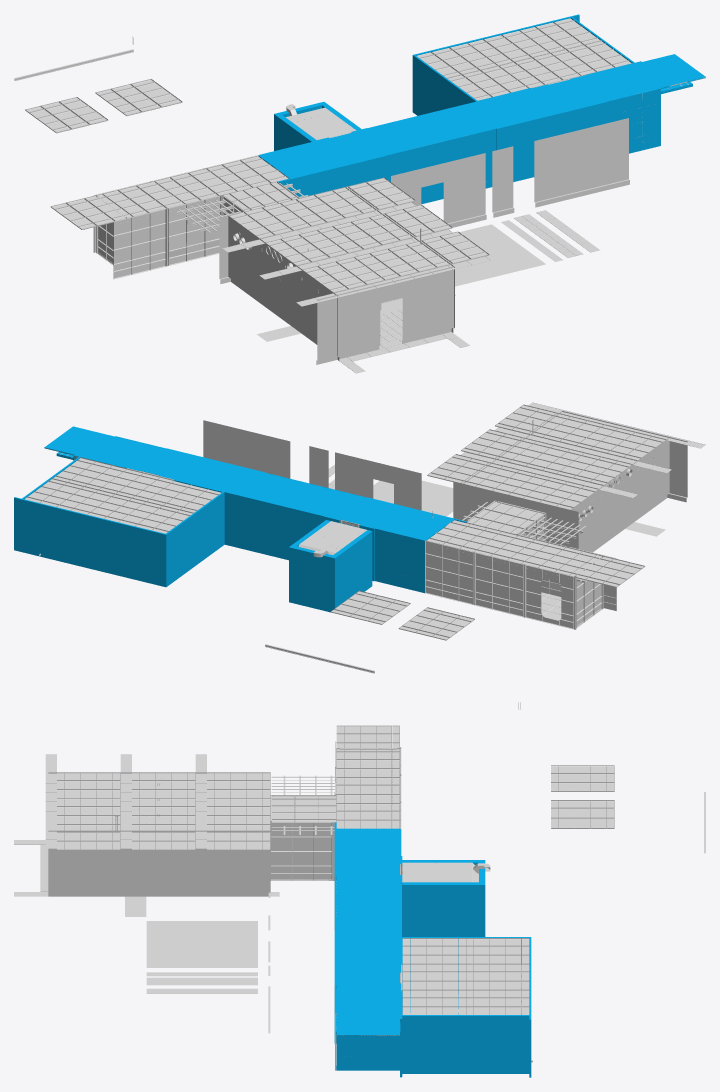
Rendered from SM_Interior2.glb.
3 renders of one model, top to bottom at view 1: azimuth 30°, elevation 25°; view 2: azimuth 150°, elevation 25°; view 3: azimuth 270°, elevation 25°, orthographic. The views are drawn at different scales.
Visible parts, largest first — view 1: SM_TrimTiles1_Wall1.002, SM_TrimTiles1_Wall3_Frame.002, SM_TrimTiles1_Wall3_Frame.001, SM_TrimConcrete1.012, SM_TrimTiles1_Wall1.003, Plane.021, SM_TrimConcrete2_Damaged.006, SM_Interior2_convcolonly_045, SM_TrimTiles1_Wall1.005, SM_Interior2_convcolonly_081, SM_TrimConcrete1_Ceeling4.001, SM_TrimConcrete1_Ceeling1.015 (+49 smaller); view 2: SM_TrimTiles1_Wall1.002, SM_TrimTiles1_Wall3_Frame.001, SM_Interior2_convcolonly_075, SM_Interior2_convcolonly_005, SM_Interior2_convcolonly_006, SM_Interior2_convcolonly_007, SM_TrimConcrete1.010, SM_TrimConcrete1.009, SM_Interior2_convcolonly_076, SM_TrimTiles1_Wall1.005, SM_Interior2_convcolonly_048, SM_TrimTiles1_Wall1.003 (+48 smaller); view 3: SM_TrimTiles1_Wall1.004, SM_TrimTiles1_Wall1, Plane.021, SM_Interior2_convcolonly_074, SM_Interior2_convcolonly_008, SM_Interior2_convcolonly_009, SM_TrimConcrete1.007, SM_Interior2_convcolonly_063, SM_TrimConcrete1_Ceeling4, SM_TrimConcrete1_Ceeling4.001, SM_Interior2_convcolonly_055, SM_TrimConcrete1_Ceeling1.008 (+29 smaller).
Part boxes in pixels (<box>): SM_TrimTiles1_Wall1.002: <box>534,118,629,207</box>; SM_TrimTiles1_Wall3_Frame.002: <box>337,271,432,359</box>; SM_TrimTiles1_Wall3_Frame.001: <box>391,153,486,227</box>; SM_TrimConcrete1.012: <box>113,208,168,279</box>; SM_TrimTiles1_Wall1.003: <box>228,216,284,320</box>; Plane.021: <box>455,224,545,286</box>; SM_TrimConcrete2_Damaged.006: <box>168,195,222,265</box>; SM_Interior2_convcolonly_045: <box>606,88,660,153</box>; SM_TrimTiles1_Wall1.005: <box>283,256,339,360</box>; SM_Interior2_convcolonly_081: <box>496,115,551,181</box>; SM_TrimConcrete1_Ceeling4.001: <box>95,79,182,115</box>; SM_TrimConcrete1_Ceeling1.015: <box>25,97,108,133</box>; SM_TrimTiles1_Wall1.002: <box>203,420,290,478</box>; SM_TrimTiles1_Wall3_Frame.001: <box>335,452,421,510</box>; SM_Interior2_convcolonly_075: <box>289,545,337,612</box>; SM_Interior2_convcolonly_005: <box>114,521,165,586</box>; SM_Interior2_convcolonly_006: <box>64,509,114,574</box>; SM_Interior2_convcolonly_007: <box>14,497,64,562</box>; SM_TrimConcrete1.010: <box>475,553,525,617</box>; SM_TrimConcrete1.009: <box>425,540,475,605</box>; SM_Interior2_convcolonly_076: <box>224,491,274,556</box>; SM_TrimTiles1_Wall1.005: <box>619,436,670,532</box>; SM_Interior2_convcolonly_048: <box>375,528,425,593</box>; SM_TrimTiles1_Wall1.003: <box>571,474,620,552</box>; SM_TrimTiles1_Wall1.004: <box>48,830,159,896</box>; SM_TrimTiles1_Wall1: <box>159,830,270,896</box>; Plane.021: <box>146,921,257,967</box>; SM_Interior2_convcolonly_074: <box>402,882,478,936</box>; SM_Interior2_convcolonly_008: <box>465,1015,529,1073</box>; SM_Interior2_convcolonly_009: <box>402,1015,465,1073</box>; SM_TrimConcrete1.007: <box>270,822,334,880</box>; SM_Interior2_convcolonly_063: <box>336,1036,399,1070</box>; SM_TrimConcrete1_Ceeling4: <box>271,795,336,823</box>; SM_TrimConcrete1_Ceeling4.001: <box>551,800,614,828</box>; SM_Interior2_convcolonly_055: <box>336,1009,399,1036</box>; SM_TrimConcrete1_Ceeling1.008: <box>402,938,466,964</box>.
Size of what is drawn, in the model's own units: 27.34 by 6.48 by 25.83.
